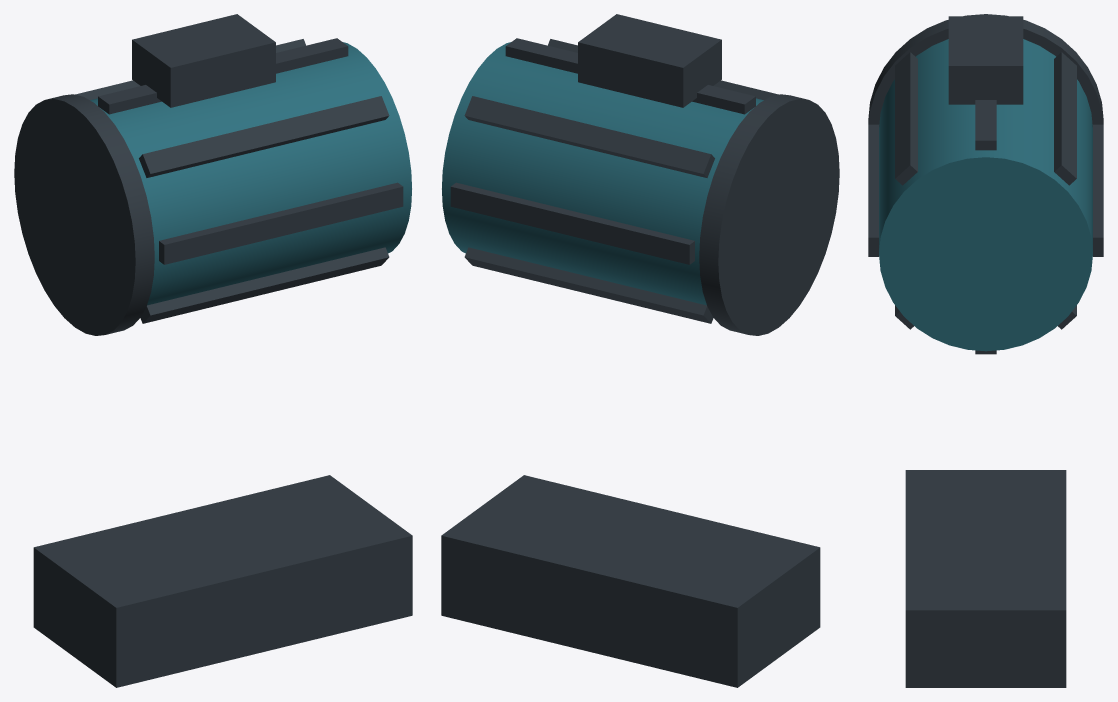
Rendered from motor.glb.
The picture shows the model from 3 angles, left to right: view 1: azimuth 30°, elevation 25°; view 2: azimuth 150°, elevation 25°; view 3: azimuth 270°, elevation 25°; orthographic projection. The views are drawn at different scales.
Bounding box in the file's own units: 62 × 117 × 44.
